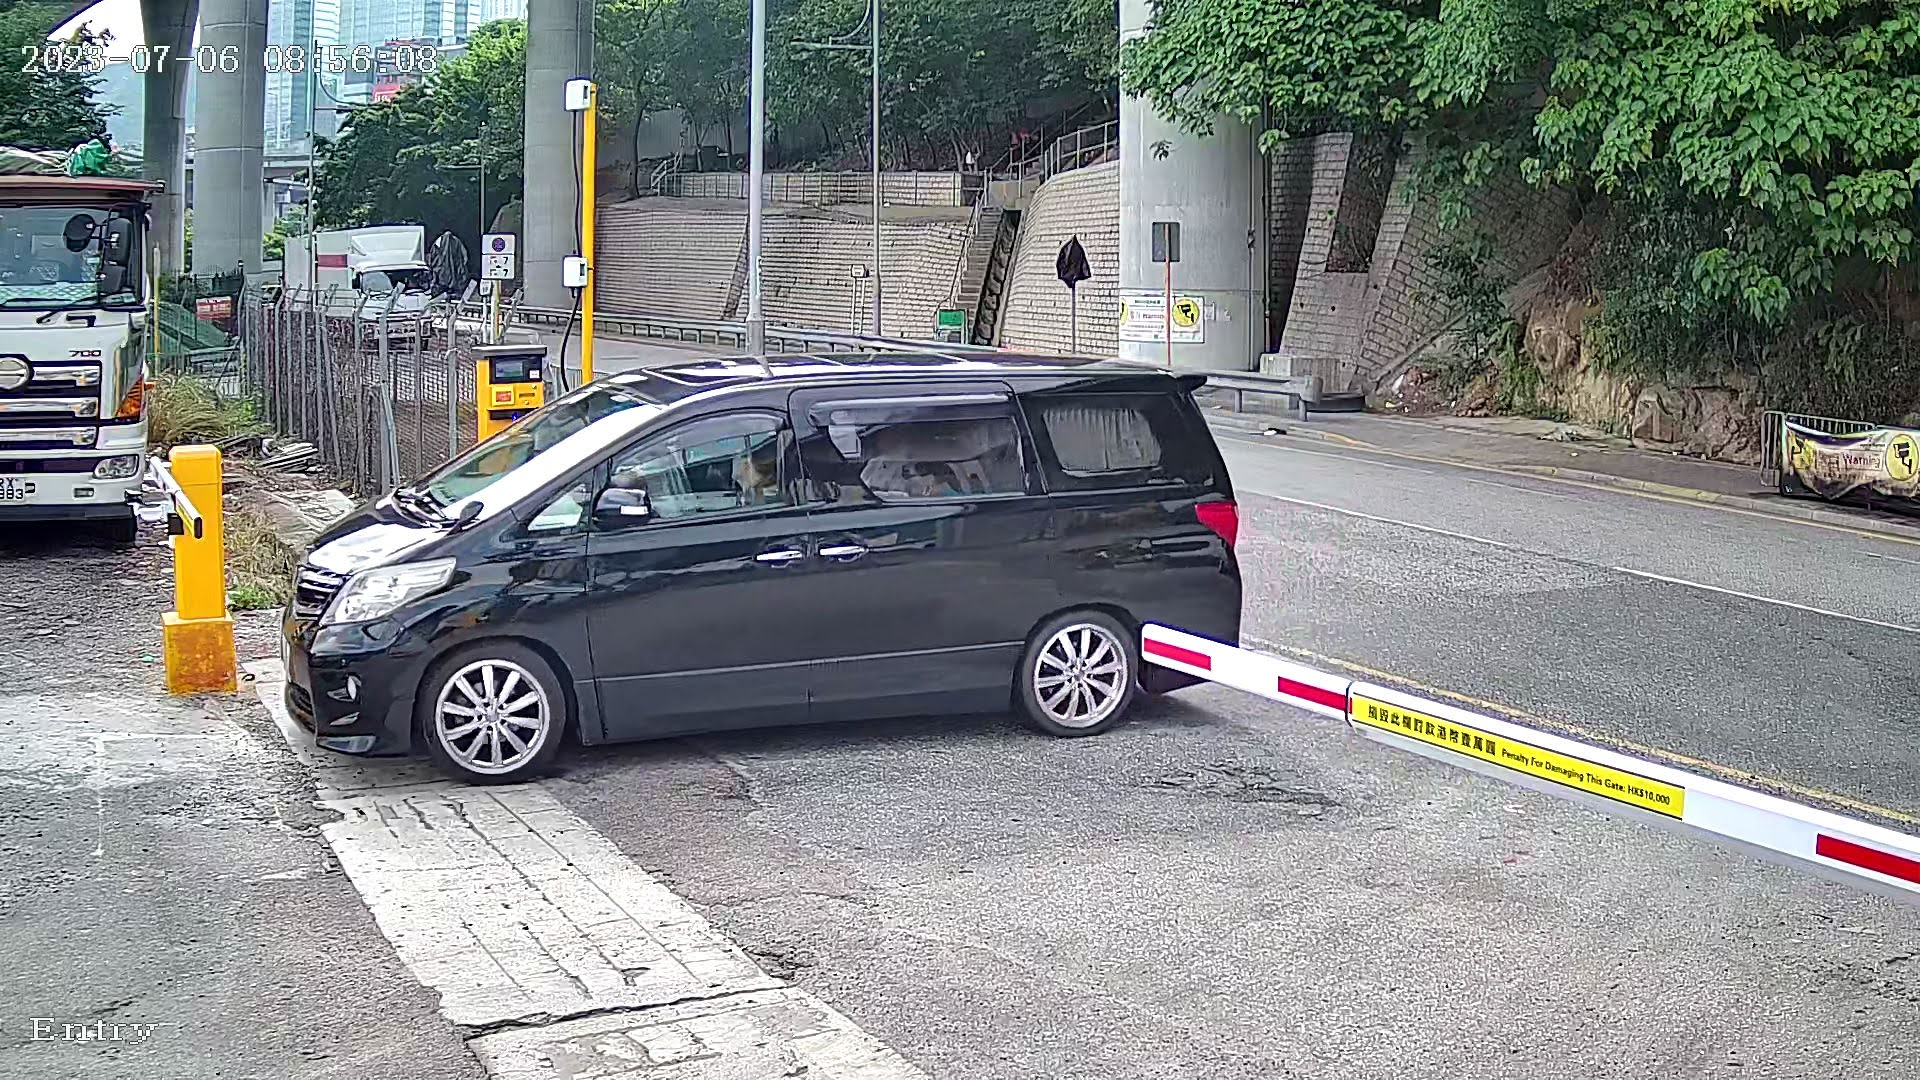privatecar: (239, 264, 1325, 815)
